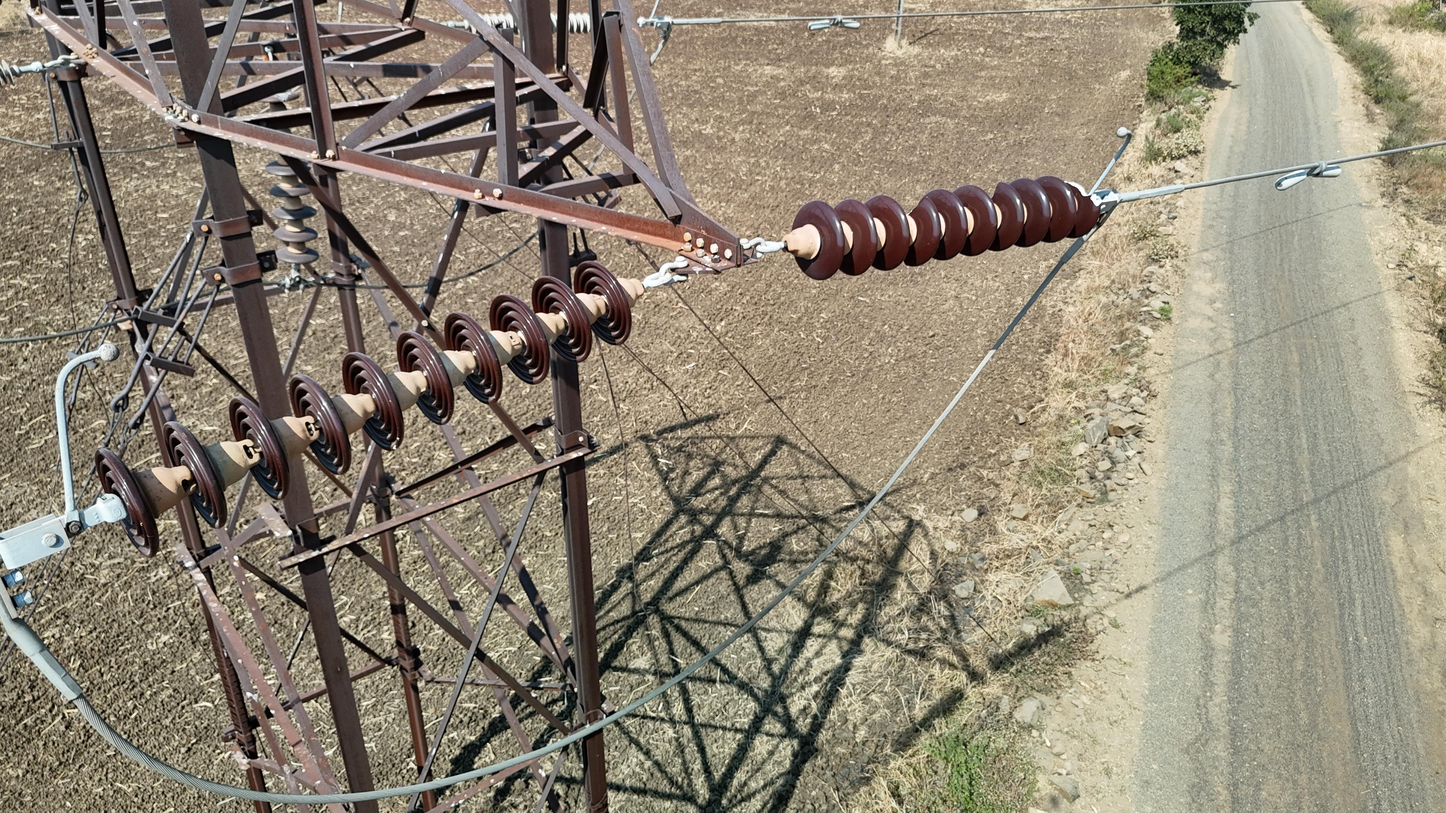broken_insulator: (903, 192, 942, 271), (986, 180, 1027, 253), (1063, 176, 1102, 240)
